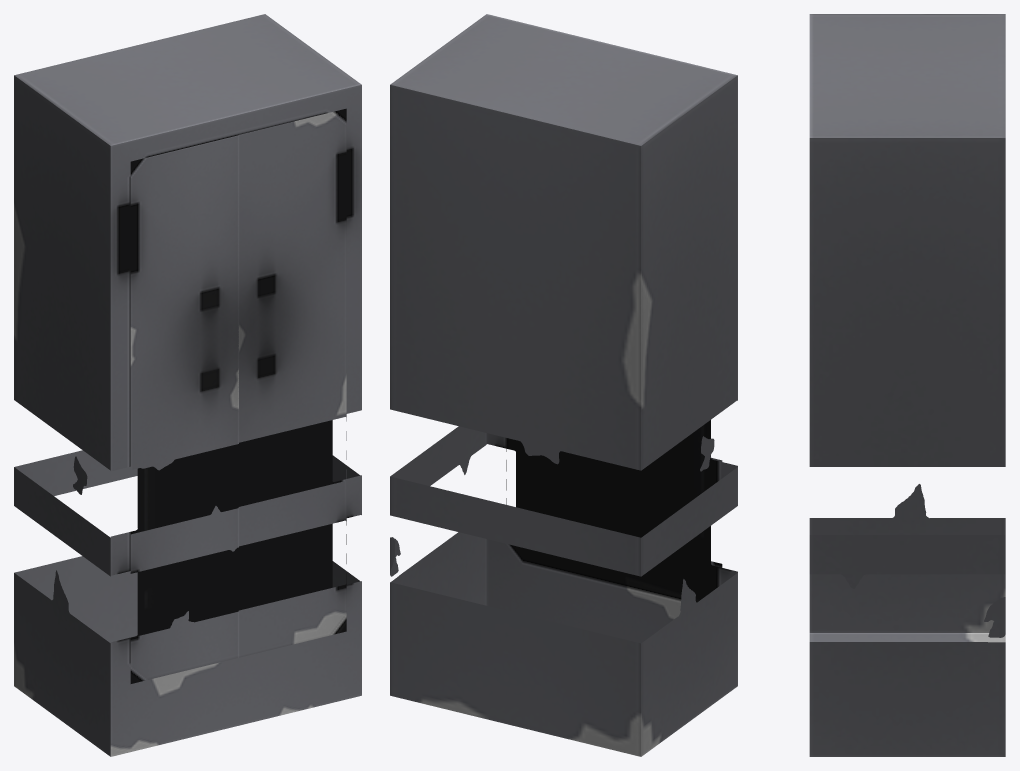
The model's file is obj_interactive_locker_lod1.fbx.
The picture shows the model from 3 angles, left to right: view 1: azimuth 30°, elevation 25°; view 2: azimuth 150°, elevation 25°; view 3: azimuth 270°, elevation 25°; orthographic projection.
Visible parts, largest first — view 1: _submesh2; view 2: _submesh2; view 3: _submesh2.
Part boxes in pixels (x1,y1,x2,y2): _submesh2: (14,14,361,756); _submesh2: (390,14,737,756); _submesh2: (809,14,1005,756).
Bounding box in the file's own units: 3 × 6.97 × 2.44.
1 material, 1 textured.
